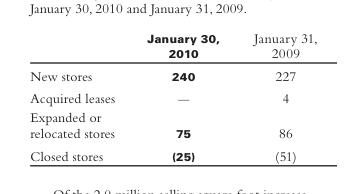table: (29, 29, 316, 163)
table column: (130, 29, 236, 163), (29, 29, 130, 163), (236, 29, 316, 163)
table column header: (29, 29, 316, 63)
table row: (29, 106, 316, 143), (29, 29, 316, 63), (29, 63, 316, 86), (29, 86, 316, 106), (29, 143, 316, 163)
